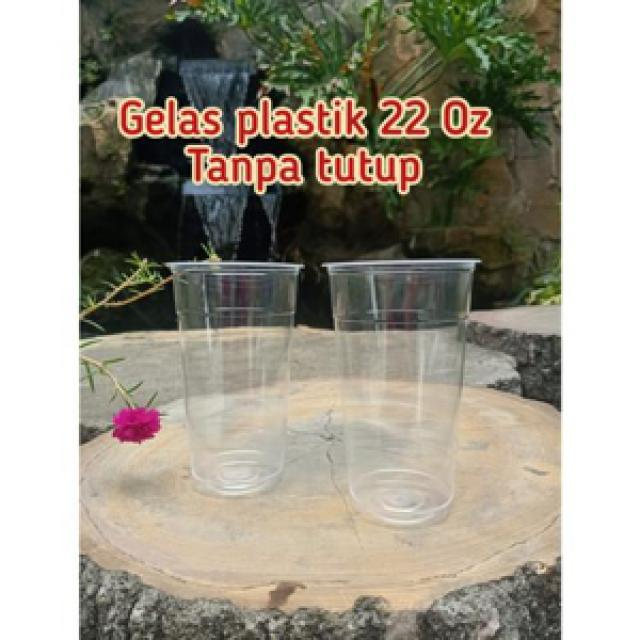plastic cup: (318, 245, 491, 536), (158, 252, 307, 503)
